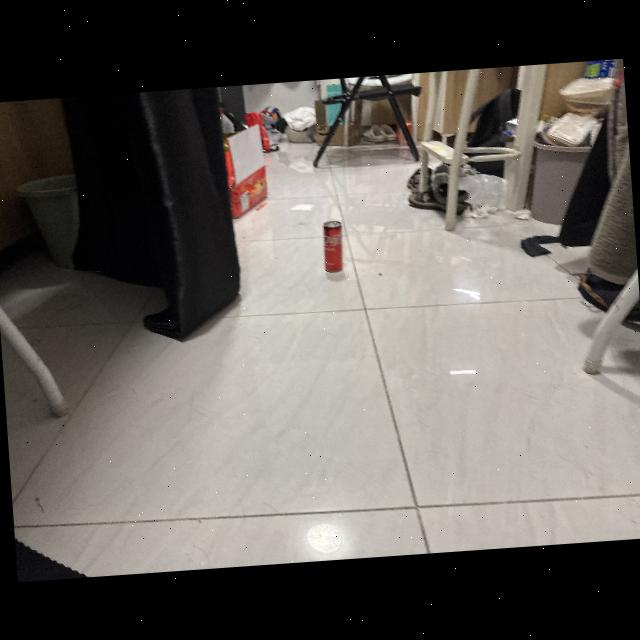Cola: (316, 214, 354, 278)
